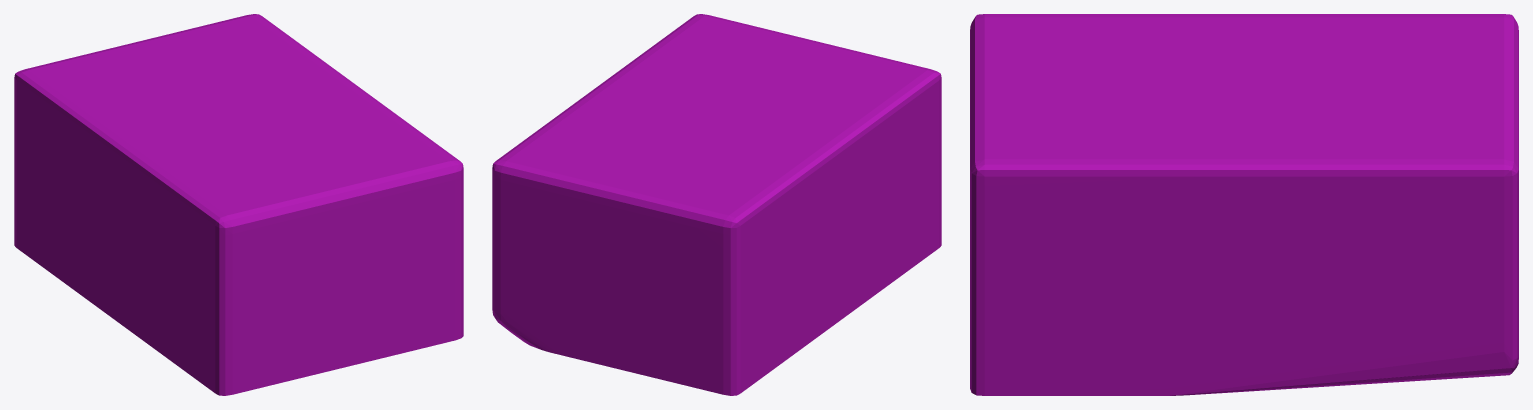
The model's file is right_palm_part_22.obj.
3 views of the same model, side by side, from view 1: azimuth 30°, elevation 25°; view 2: azimuth 150°, elevation 25°; view 3: azimuth 270°, elevation 25° (orthographic). The views are drawn at different scales.
Size of the model in its own units: 21.73 by 14.79 by 32.11.
